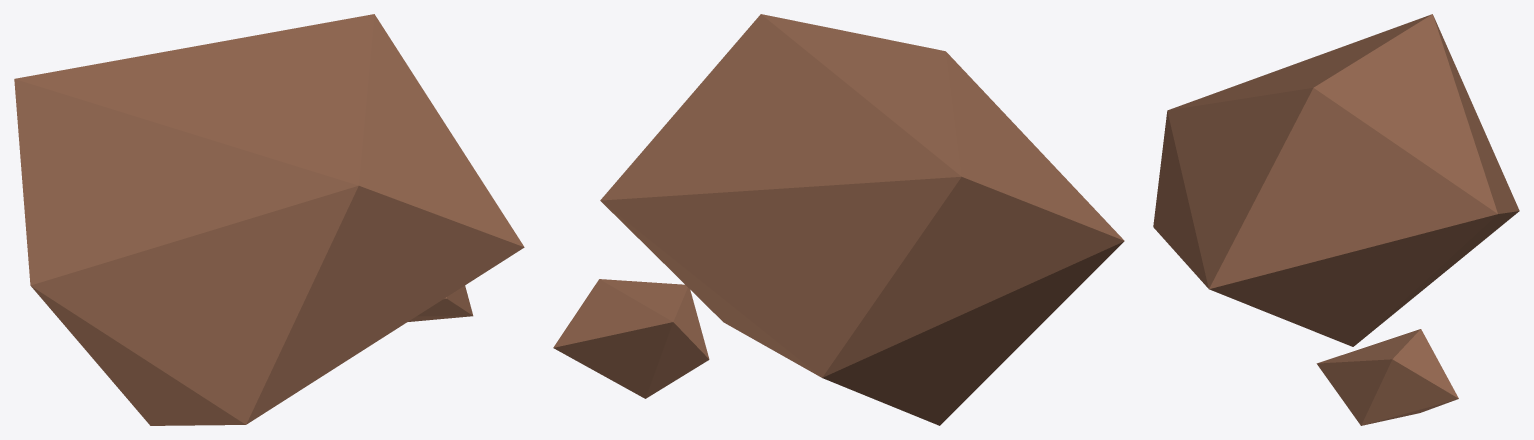
3 views of the same model, side by side, from view 1: azimuth 30°, elevation 25°; view 2: azimuth 150°, elevation 25°; view 3: azimuth 270°, elevation 25° (orthographic). The views are drawn at different scales.
Parts seen in each view (by area): view 1: 石头_16; view 2: 石头_16; view 3: 石头_16.
Boxes of the visible parts, x1=… form: 石头_16: x1=14, y1=14, x2=524, y2=425; 石头_16: x1=553, y1=14, x2=1124, y2=425; 石头_16: x1=1153, y1=14, x2=1519, y2=425.
Bounding box in the file's own units: 1.53 × 1.1 × 1.21.
